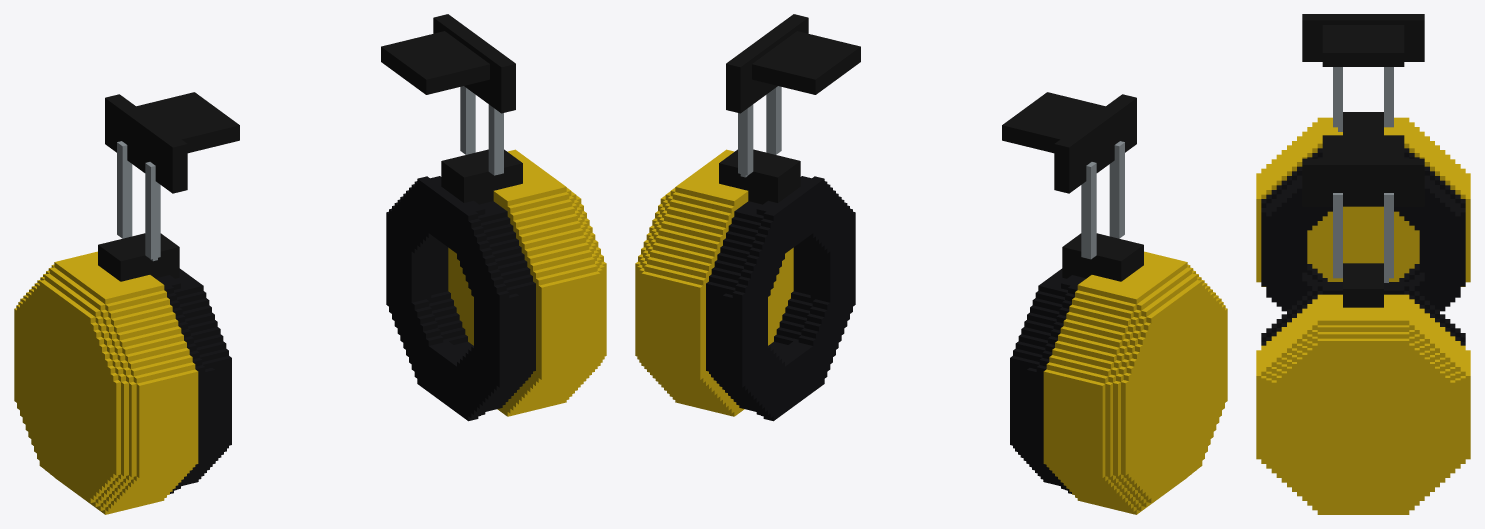
Rendered from attachable_ear_muffs.glb.
3 renders of one model, left to right at view 1: azimuth 30°, elevation 25°; view 2: azimuth 150°, elevation 25°; view 3: azimuth 270°, elevation 25°, orthographic. The views are drawn at different scales.
Parts seen in each view (by area): view 1: attachable_ear_muffs:compound; view 2: attachable_ear_muffs:compound; view 3: attachable_ear_muffs:compound.
Part boxes in pixels (x1,y1,x2,y2): attachable_ear_muffs:compound: (14,14,606,514); attachable_ear_muffs:compound: (635,14,1227,514); attachable_ear_muffs:compound: (1256,14,1470,514).
Size of the model in its own units: 0.2 by 0.14 by 0.084.
